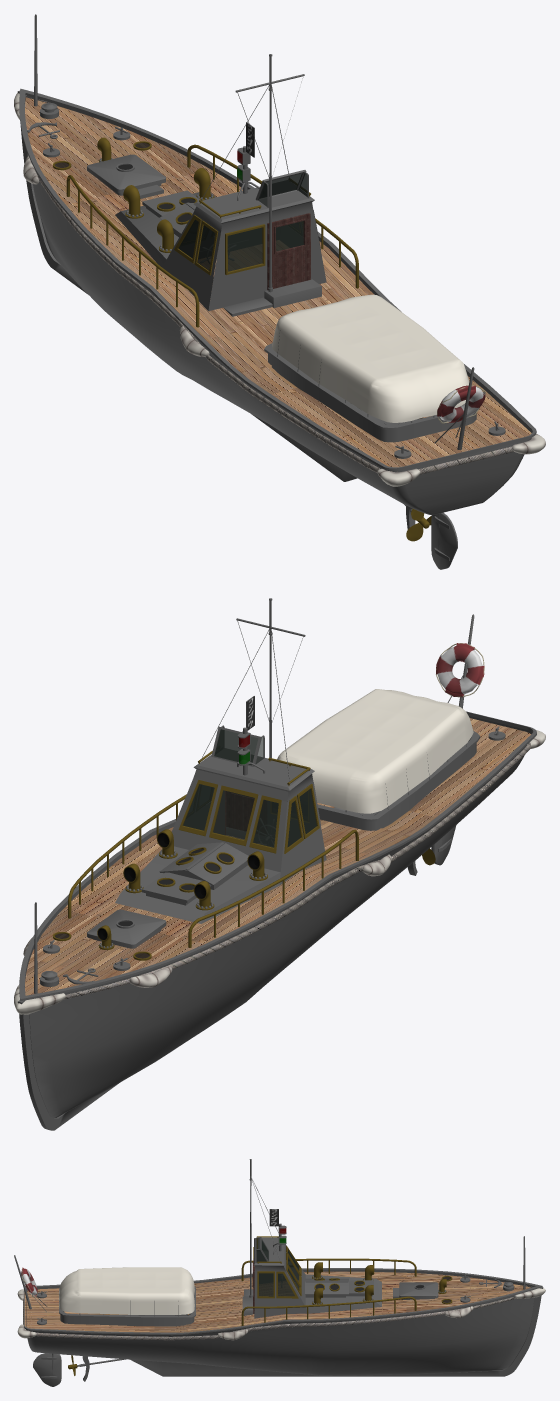
The model's file is 11m lunch.fbx.
3 renders of one model, top to bottom at view 1: azimuth 30°, elevation 25°; view 2: azimuth 150°, elevation 25°; view 3: azimuth 270°, elevation 25°, orthographic. The views are drawn at different scales.
Parts seen in each view (by area): view 1: body, kanvas_roof, rudder, resc; view 2: body, kanvas_roof, resc; view 3: body, kanvas_roof, rudder.
Part boxes in pixels (x1,y1,x2,y2): body: (14, 14, 545, 541); kanvas_roof: (272, 294, 469, 422); rudder: (431, 512, 457, 569); resc: (437, 385, 485, 423); body: (14, 598, 545, 1130); kanvas_roof: (277, 689, 473, 813); resc: (436, 643, 484, 697); body: (14, 1159, 545, 1381); kanvas_roof: (59, 1267, 194, 1314); rudder: (33, 1353, 61, 1386).
Bounding box in the file's own units: 9865 × 18516 × 39291.
Materials: 22 (13 with a texture image).
